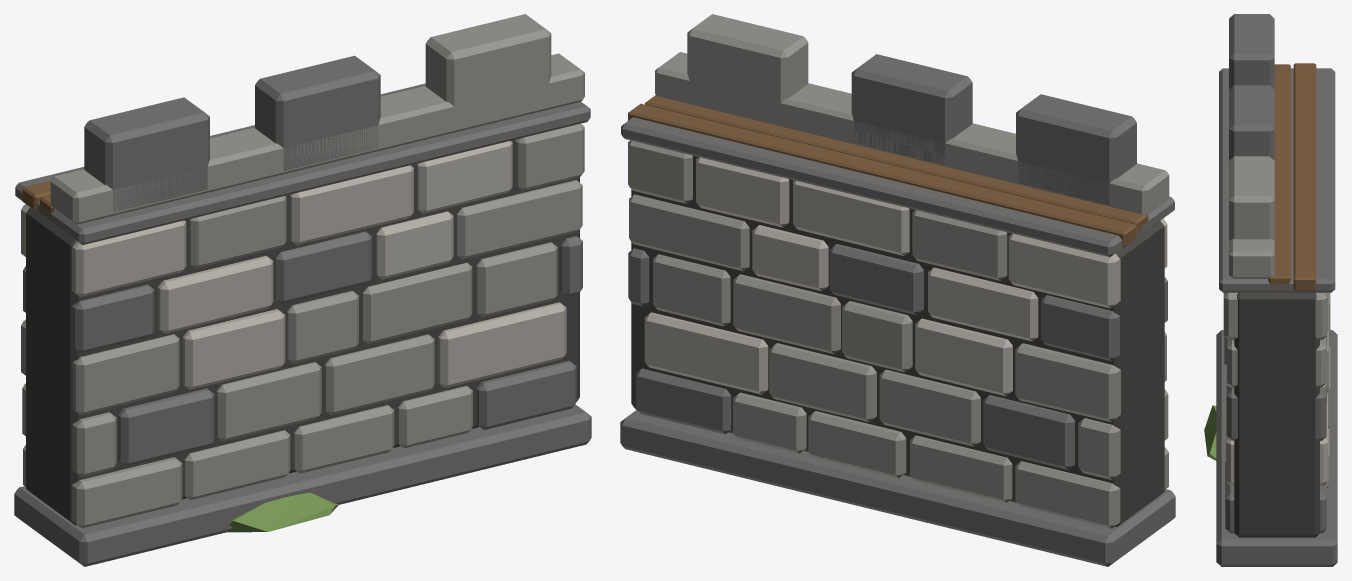
The model's file is wall_2.glb.
3 renders of one model, left to right at view 1: azimuth 30°, elevation 25°; view 2: azimuth 150°, elevation 25°; view 3: azimuth 270°, elevation 25°, orthographic. The views are drawn at different scales.
Visible parts, largest first — view 1: Wall; view 2: Wall; view 3: Wall.
Part boxes in pixels (left/top/right/bottom): Wall: left=14, top=14, right=591, bottom=566; Wall: left=620, top=14, right=1175, bottom=566; Wall: left=1204, top=14, right=1337, bottom=566.
Bounding box in the file's own units: 4.04 × 3.12 × 1.06.
